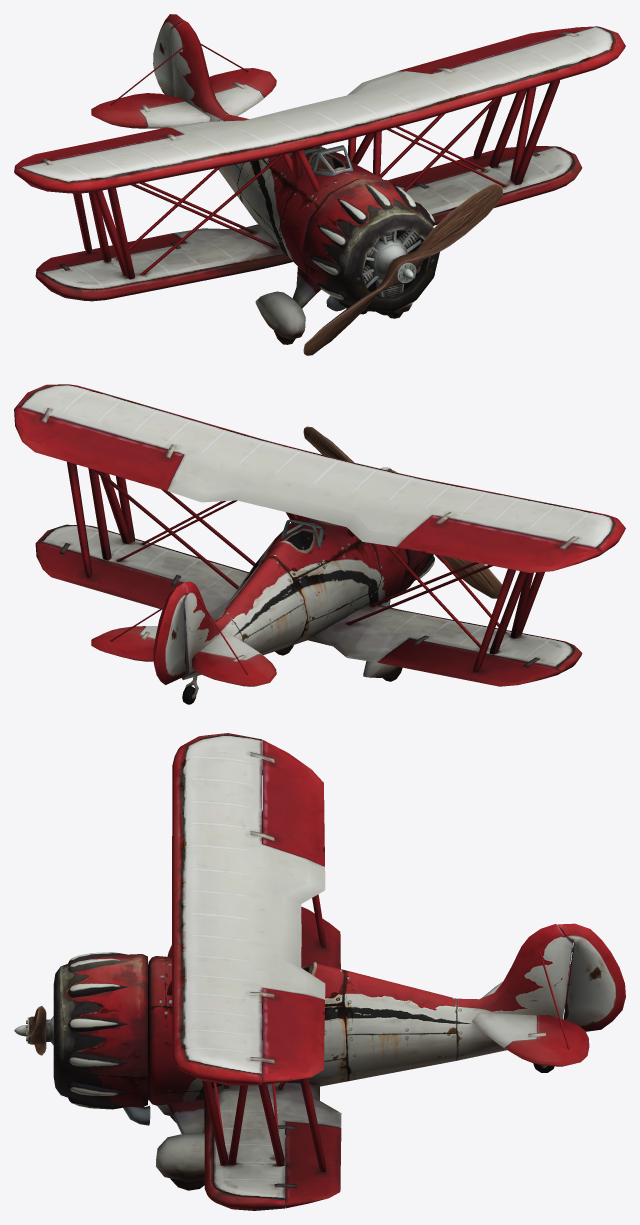
Rendered from RustAirborn.fbx.
The picture shows the model from 3 angles, top to bottom: view 1: azimuth 30°, elevation 25°; view 2: azimuth 150°, elevation 25°; view 3: azimuth 270°, elevation 25°; orthographic projection. The views are drawn at different scales.
Visible parts, largest first — view 1: Wing_Top.002, Wing_Top.004; view 2: Wing_Top.002, Wing_Top.004; view 3: Wing_Top.002, Wing_Top.004.
Part boxes in pixels (box(x1,y1,x2,y2)): Wing_Top.002: box(14, 14, 625, 355); Wing_Top.004: box(73, 43, 559, 279); Wing_Top.002: box(14, 384, 625, 704); Wing_Top.004: box(67, 461, 544, 675); Wing_Top.002: box(14, 733, 625, 1210); Wing_Top.004: box(167, 810, 569, 1171).
Size of the model in its own units: 1854 by 646 by 1394.
